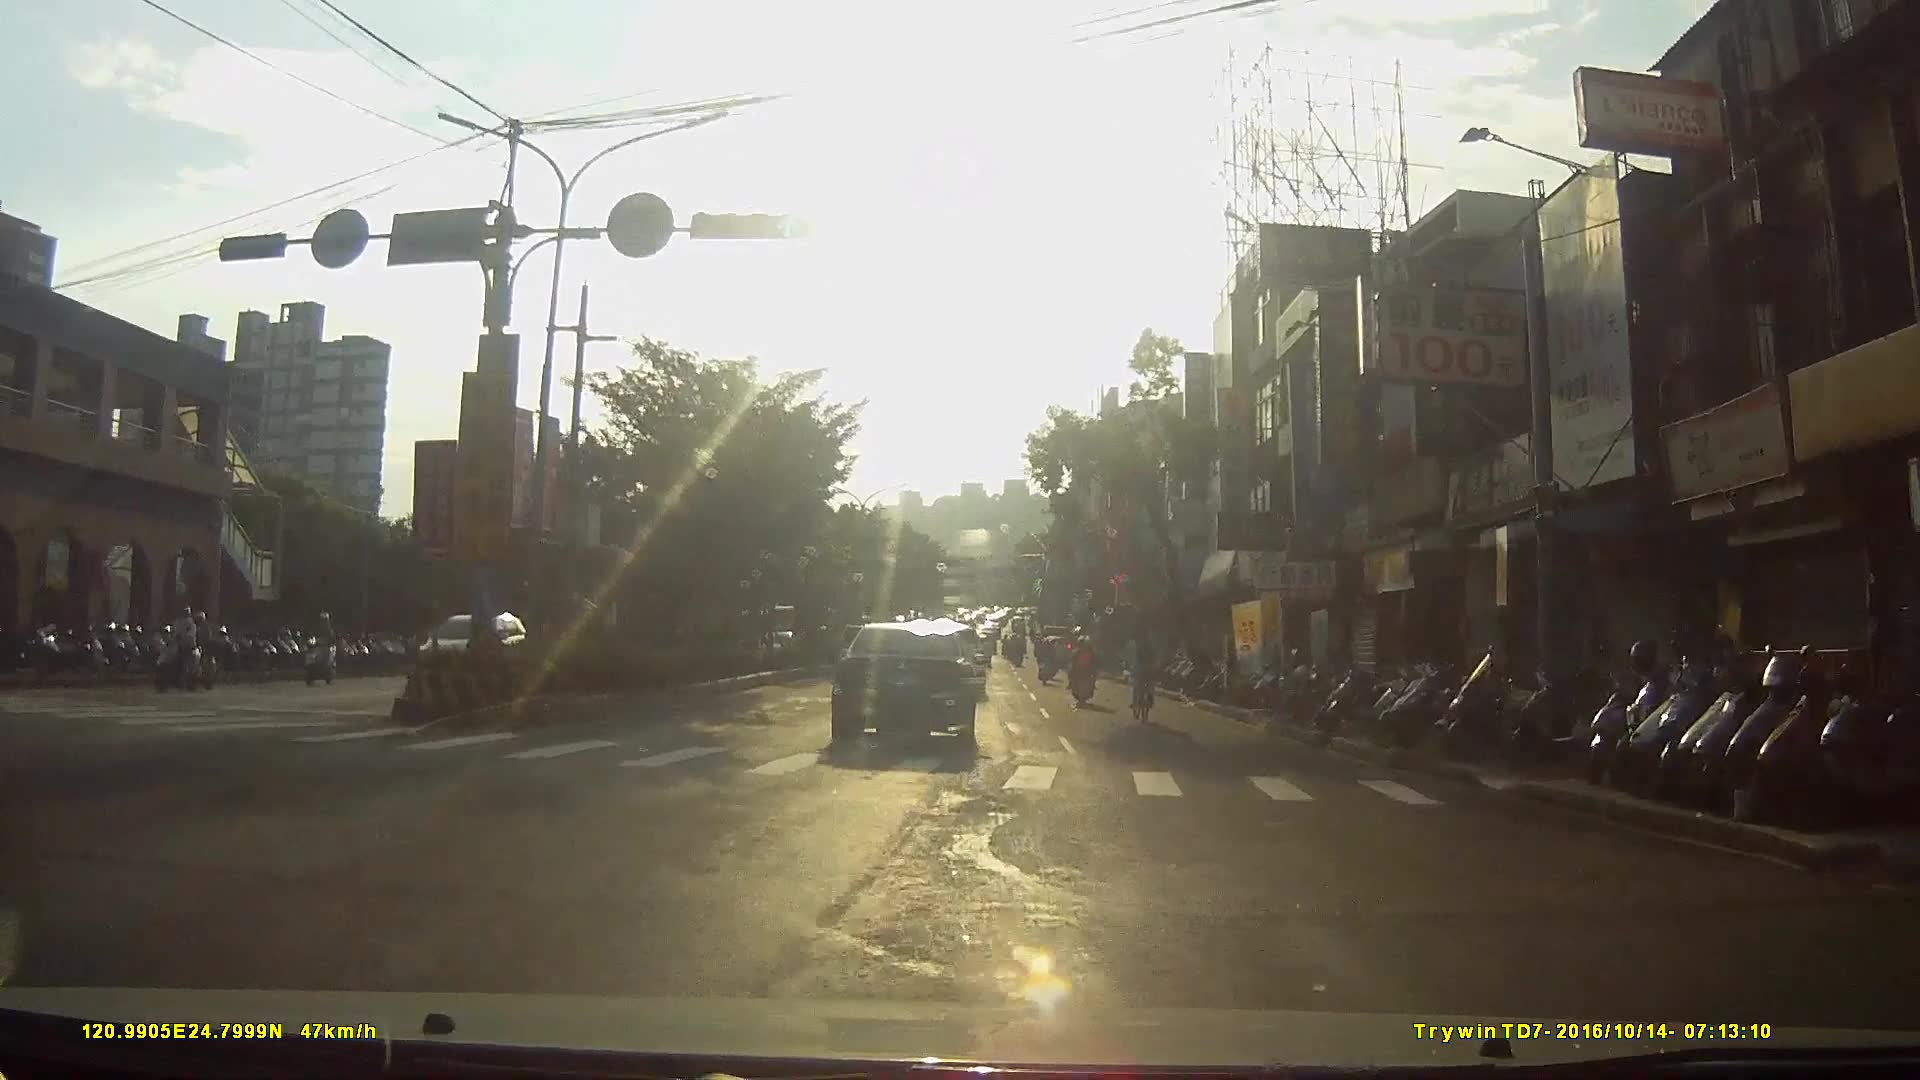rider: (155, 604, 219, 689), (1124, 619, 1163, 717), (306, 612, 342, 686), (1071, 632, 1099, 706), (1033, 632, 1060, 687)
vehicle: (834, 609, 991, 753)
